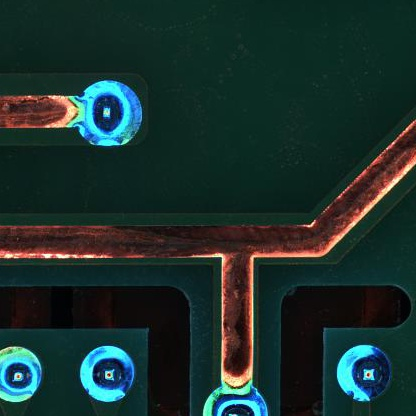spot: (78, 81, 143, 146), (335, 344, 394, 401), (81, 345, 136, 402), (1, 344, 39, 404)
